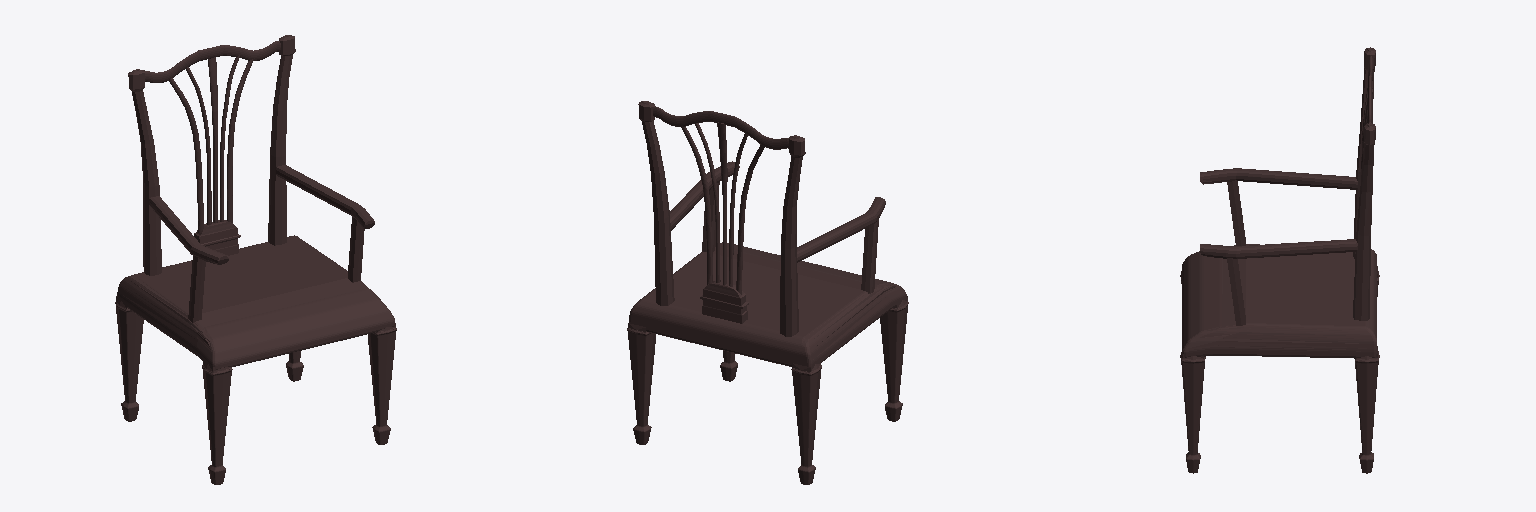
The model's file is Matt_Chair.obj.
3 views of the same model, side by side, from view 1: azimuth 30°, elevation 25°; view 2: azimuth 150°, elevation 25°; view 3: azimuth 270°, elevation 25° (orthographic).
Visible parts, largest first — view 1: pCube14; view 2: pCube14; view 3: pCube14.
Part boxes in pixels (x1,y1,x2,y2): pCube14: (115,35,396,484); pCube14: (627,101,908,484); pCube14: (1180,47,1379,473).
Size of the model in its own units: 52.19 by 92.9 by 47.88.